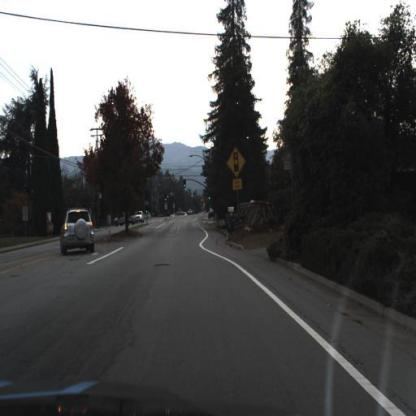car: (60, 210, 95, 254), (115, 210, 137, 228)
